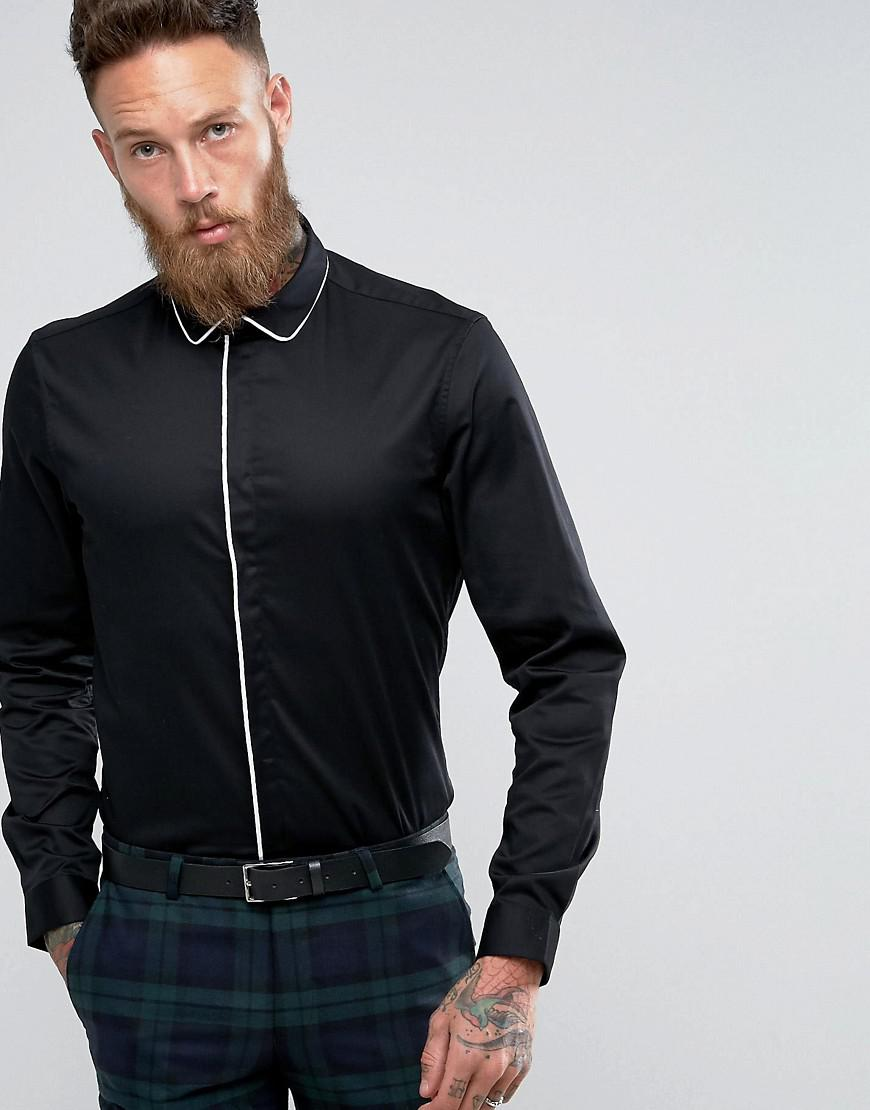teeshirt: (1, 217, 637, 994)
